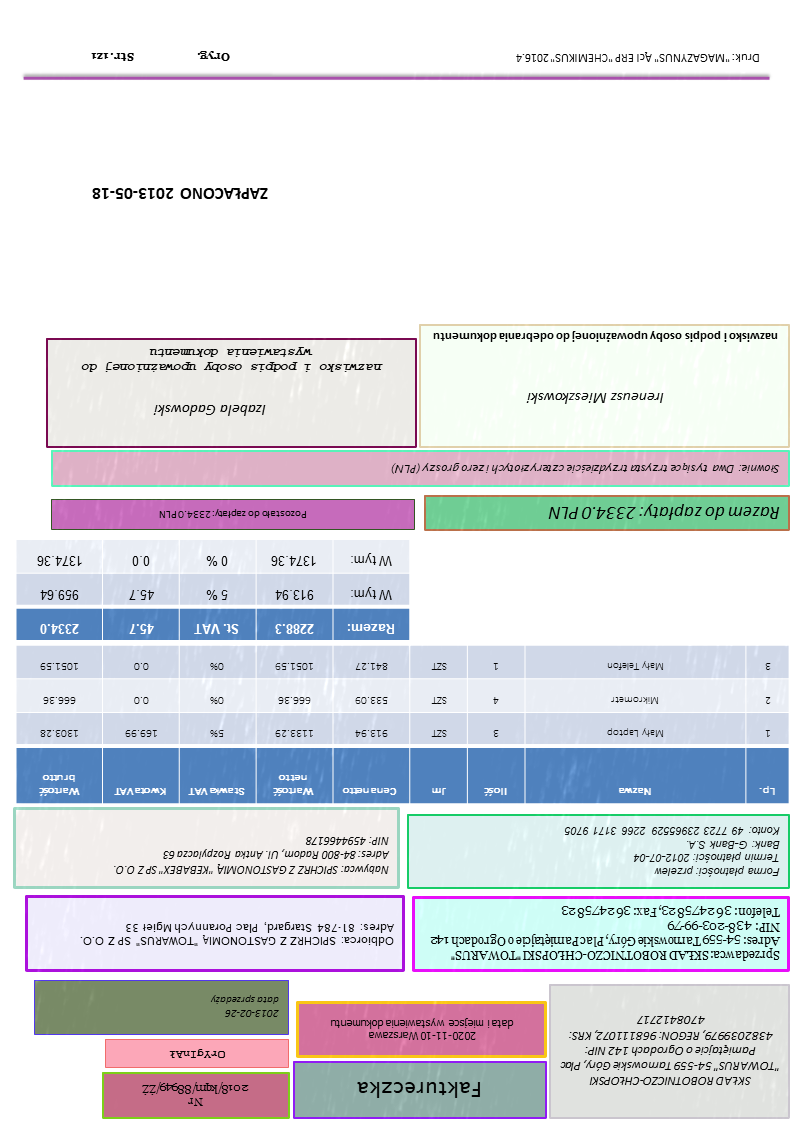Table: (14, 645, 791, 805), (14, 538, 412, 642)
TextBox: (426, 904, 783, 965), (555, 1010, 782, 1090), (109, 833, 392, 879), (561, 823, 783, 881), (77, 919, 399, 951), (78, 345, 386, 377), (390, 460, 781, 478), (431, 328, 781, 348), (546, 501, 783, 526), (515, 47, 762, 68), (327, 1016, 517, 1043), (87, 184, 274, 205), (140, 1078, 252, 1111), (525, 387, 668, 410), (356, 1078, 484, 1101), (150, 399, 269, 422), (87, 48, 233, 66), (154, 508, 311, 524), (208, 990, 282, 1021), (168, 1045, 229, 1063)
